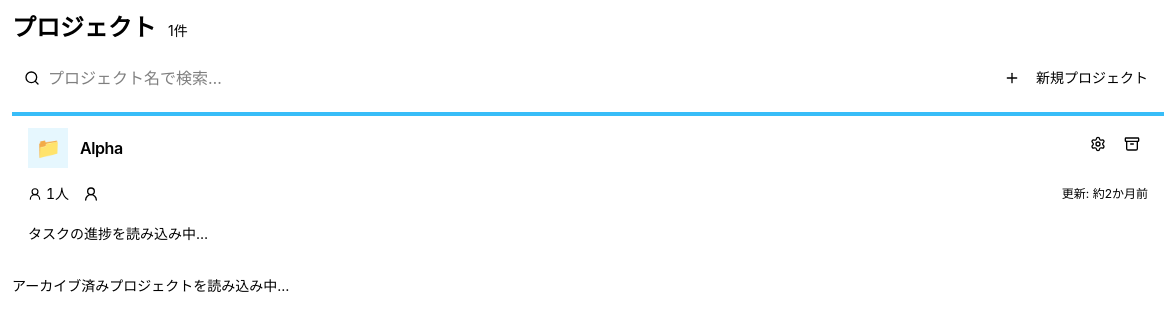
Test: project directory › limits a no-match claim to active projects while archives are loading
The width and height of the screenshot is (1176, 310).
Type "missing" into the field labelled "プロジェクト名で検索" at (236, 78), box [12,60,460,96]
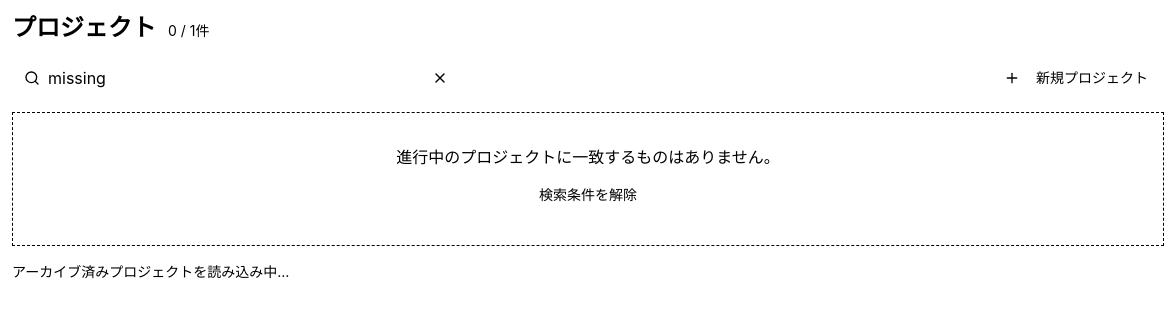
Expected: the text "アーカイブ済みプロジェクトを読み込み中…" is shown, [12,263,289,280]
Result: the text "進行中のプロジェクトに一致するものはありません。" is shown at [396,147,780,167]
